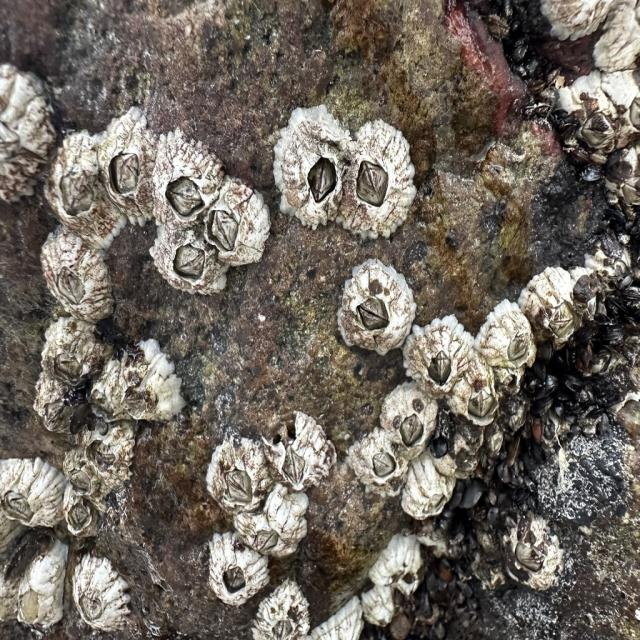barnacles: (344, 112, 420, 247), (272, 97, 346, 234), (330, 261, 414, 361), (38, 236, 116, 328), (100, 107, 158, 228), (554, 72, 621, 174), (152, 227, 232, 306), (48, 136, 107, 242), (205, 184, 273, 266), (151, 134, 208, 227), (64, 556, 134, 631), (124, 350, 190, 427), (476, 297, 539, 375), (528, 264, 584, 349), (408, 315, 466, 397), (12, 544, 65, 631), (274, 421, 337, 492), (502, 522, 564, 592), (0, 462, 61, 532), (33, 318, 96, 385), (219, 435, 269, 516), (449, 354, 499, 433), (383, 381, 433, 459), (207, 538, 264, 606), (405, 459, 460, 526), (86, 426, 136, 496), (354, 434, 405, 500), (258, 571, 306, 639), (88, 356, 126, 417), (60, 488, 97, 544)
